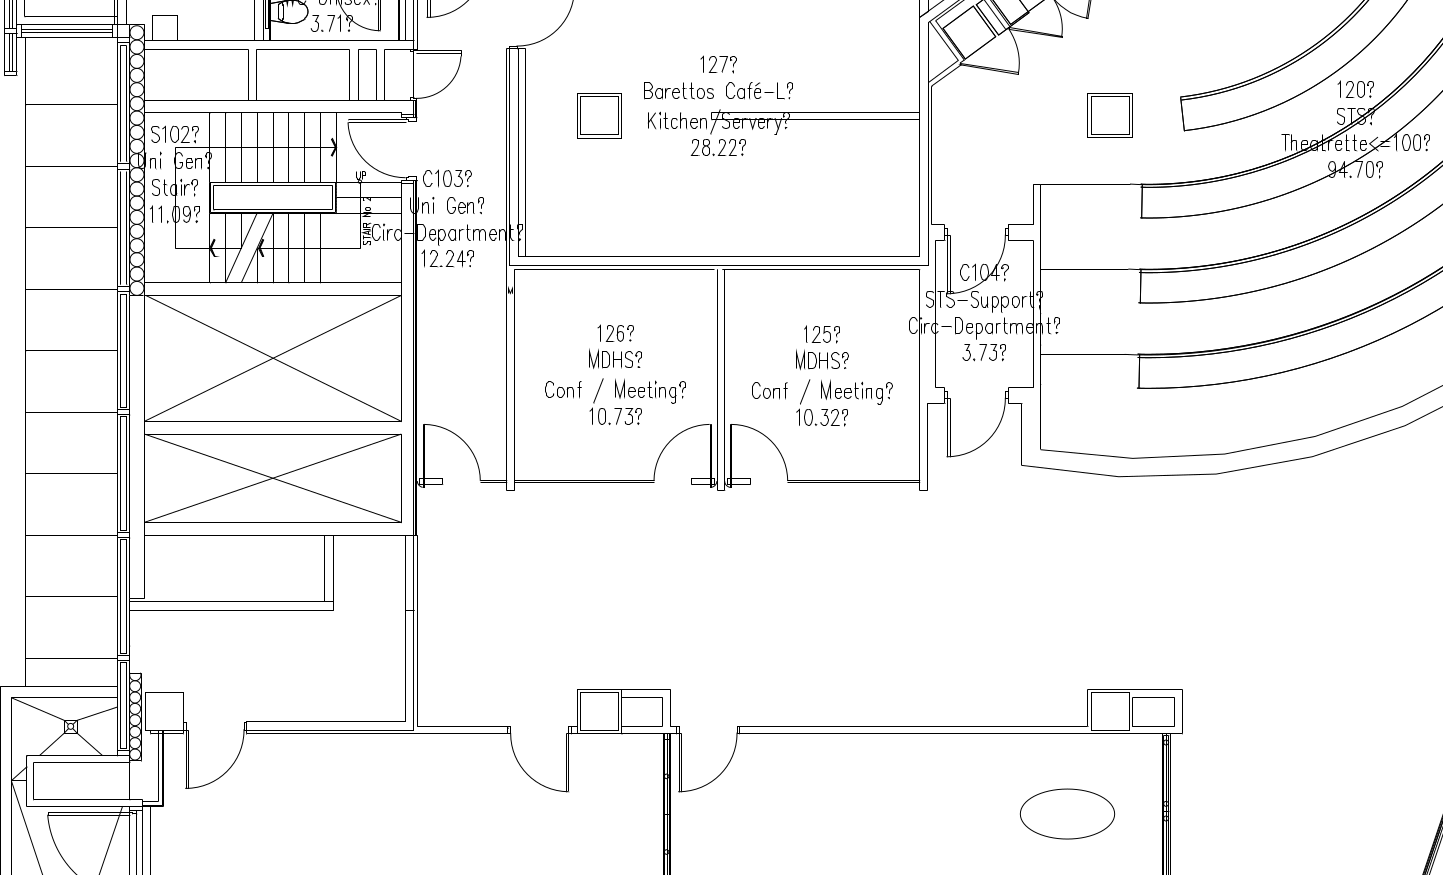door: (674, 730, 741, 802), (505, 730, 572, 802), (946, 394, 1013, 466), (944, 232, 1011, 304), (420, 416, 486, 487), (647, 416, 714, 487), (727, 419, 794, 491), (343, 115, 411, 182), (414, 40, 482, 107), (178, 730, 246, 797), (957, 30, 1026, 87)
